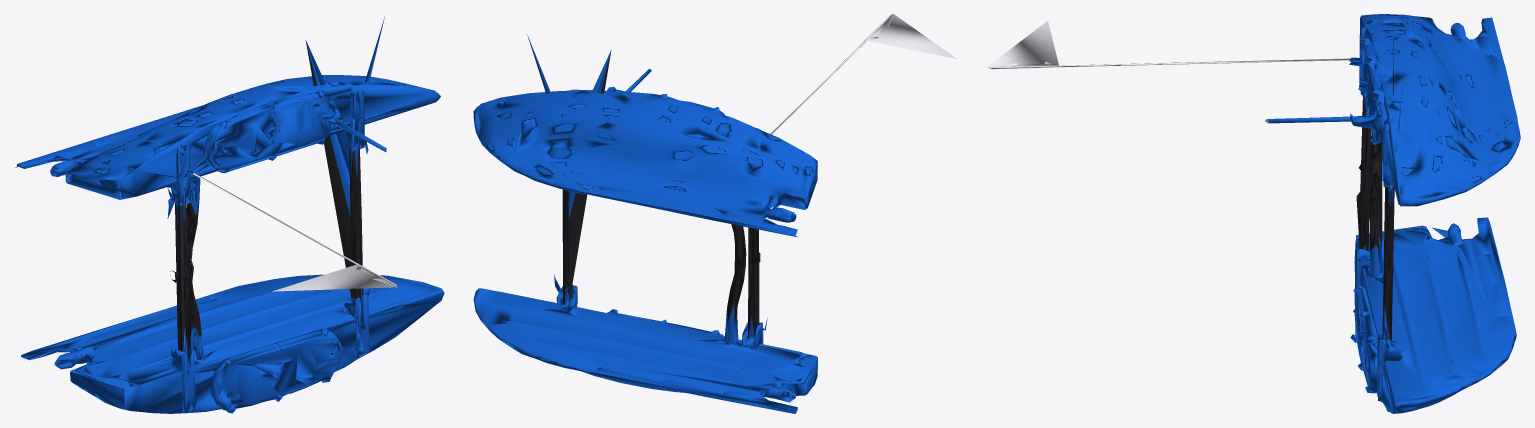
File: blueboat.obj
3 views of the same model, side by side, from view 1: azimuth 30°, elevation 25°; view 2: azimuth 150°, elevation 25°; view 3: azimuth 270°, elevation 25° (orthographic). The views are drawn at different scales.
Parts seen in each view (by area): view 1: BlueBoat_Hulls, BlueBoat_Frame, BlueBoat_Antenna; view 2: BlueBoat_Hulls, BlueBoat_Frame, BlueBoat_Antenna; view 3: BlueBoat_Hulls, BlueBoat_Frame, BlueBoat_Antenna.
Part boxes in pixels (bbox=[...]): BlueBoat_Hulls: bbox=[15, 16, 444, 413]; BlueBoat_Frame: bbox=[170, 40, 363, 359]; BlueBoat_Antenna: bbox=[193, 148, 397, 291]; BlueBoat_Hulls: bbox=[473, 34, 817, 413]; BlueBoat_Frame: bbox=[562, 51, 760, 337]; BlueBoat_Antenna: bbox=[770, 14, 956, 134]; BlueBoat_Hulls: bbox=[1267, 14, 1520, 413]; BlueBoat_Frame: bbox=[1356, 39, 1394, 345]; BlueBoat_Antenna: bbox=[986, 21, 1351, 122].
Bounding box in the file's own units: 1.24 × 1.05 × 1.43.
